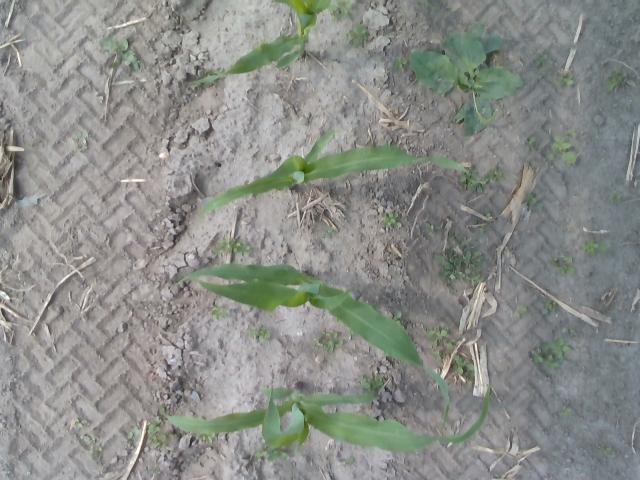Maize: (176, 264, 454, 400), (204, 128, 468, 218), (160, 383, 488, 450), (186, 0, 329, 84)
Weeds: (407, 22, 524, 136), (442, 236, 482, 282), (550, 136, 576, 164), (349, 23, 368, 47), (551, 254, 574, 273), (454, 356, 473, 379), (428, 328, 448, 348), (320, 332, 342, 350), (552, 338, 570, 360), (532, 344, 551, 364), (82, 434, 103, 452), (100, 38, 131, 50), (328, 1, 349, 18), (360, 376, 382, 390), (152, 432, 168, 449), (470, 180, 492, 192), (610, 74, 624, 92), (148, 416, 160, 436), (268, 451, 289, 462), (68, 418, 88, 429), (382, 212, 400, 224), (255, 325, 269, 340), (126, 53, 138, 70), (108, 51, 120, 68), (418, 0, 436, 11), (392, 58, 408, 70), (458, 172, 474, 183), (250, 447, 266, 458), (560, 72, 574, 84), (536, 52, 548, 66), (514, 306, 528, 318), (431, 346, 443, 360), (128, 427, 142, 439), (585, 240, 598, 252), (524, 194, 536, 206), (490, 168, 502, 180), (214, 309, 228, 319), (598, 446, 612, 456), (425, 221, 439, 231), (544, 299, 556, 310), (213, 242, 224, 253), (446, 282, 456, 294), (198, 434, 215, 441), (227, 241, 240, 250), (568, 126, 578, 137), (444, 340, 456, 349), (600, 243, 610, 253), (610, 191, 621, 200), (344, 458, 356, 466), (76, 131, 88, 138), (528, 137, 536, 147), (562, 407, 572, 415), (242, 246, 252, 253), (564, 328, 574, 334), (550, 362, 558, 369), (326, 228, 332, 236), (486, 212, 491, 218)
